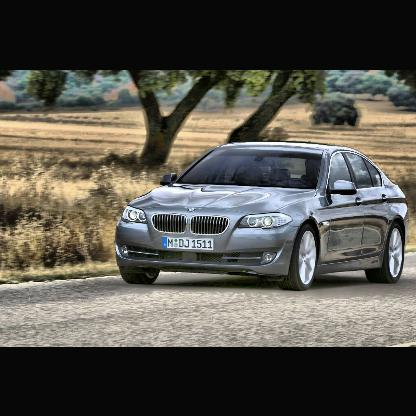BMW ActiveHybrid 5 Sedan 2012: (117, 142, 407, 294)
